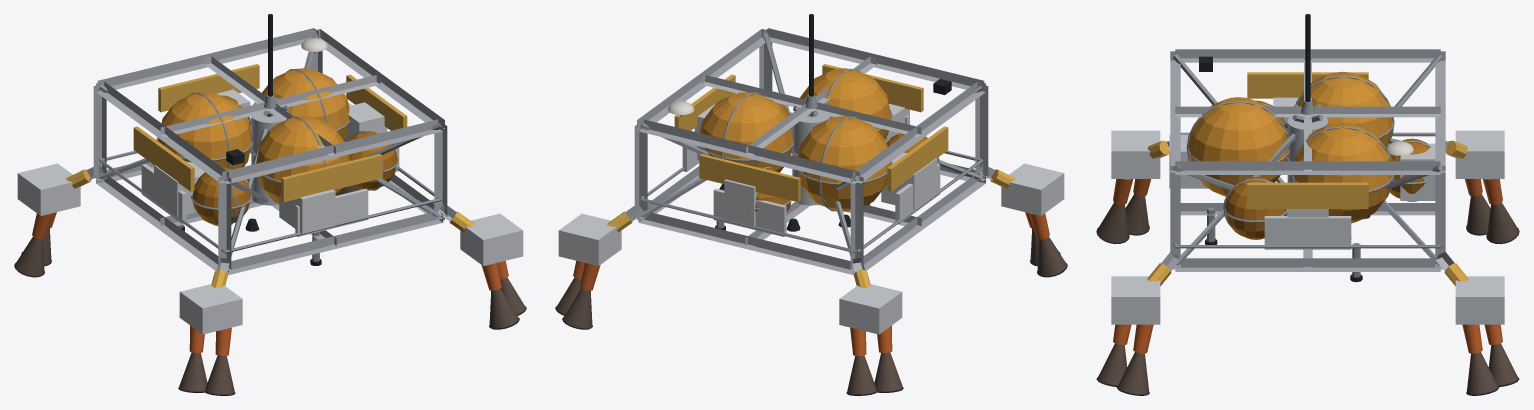
Rendered from msl-descent-stage.glb.
The picture shows the model from 3 angles, left to right: view 1: azimuth 30°, elevation 25°; view 2: azimuth 150°, elevation 25°; view 3: azimuth 270°, elevation 25°; orthographic projection. The views are drawn at different scales.
Visible parts, largest first — view 1: body, foil; view 2: body, foil; view 3: body, foil.
Part boxes in pixels (box(x1,y1,x2,y2)): body: box(14, 14, 526, 395); foil: box(17, 64, 523, 334); body: box(555, 14, 1067, 395); foil: box(558, 64, 1064, 334); body: box(1096, 14, 1519, 395); foil: box(1111, 71, 1504, 324).
Bounding box in the file's own units: 4.14 × 3.21 × 4.15.
